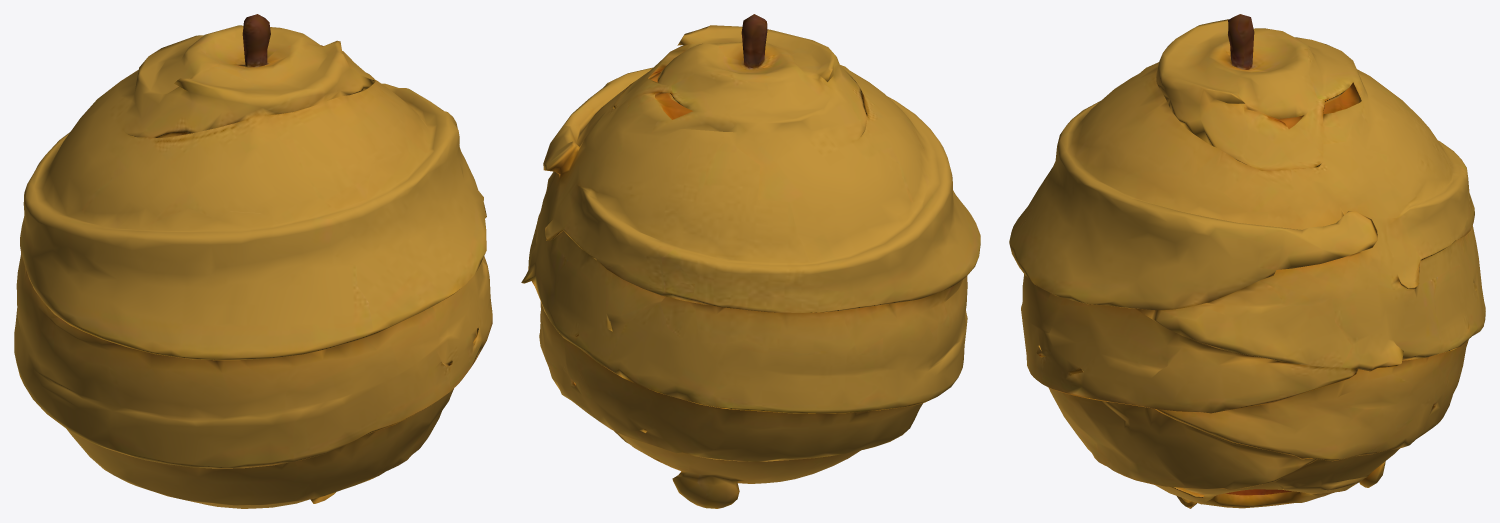
The model's file is ammo-hive.glb.
The picture shows the model from 3 angles, left to right: view 1: azimuth 30°, elevation 25°; view 2: azimuth 150°, elevation 25°; view 3: azimuth 270°, elevation 25°; orthographic projection. The views are drawn at different scales.
Visible parts, largest first — view 1: tripo_node_57b23415-bb2d-4cb7-a928-d690b7e24bfb; view 2: tripo_node_57b23415-bb2d-4cb7-a928-d690b7e24bfb; view 3: tripo_node_57b23415-bb2d-4cb7-a928-d690b7e24bfb.
Boxes of the visible parts, x1,y1,x2,y2 form: tripo_node_57b23415-bb2d-4cb7-a928-d690b7e24bfb: (14, 14, 492, 508); tripo_node_57b23415-bb2d-4cb7-a928-d690b7e24bfb: (521, 14, 980, 508); tripo_node_57b23415-bb2d-4cb7-a928-d690b7e24bfb: (1009, 14, 1485, 508).
Bounding box in the file's own units: 0.9039 × 0.9818 × 0.8903.
1 material, 1 textured.
